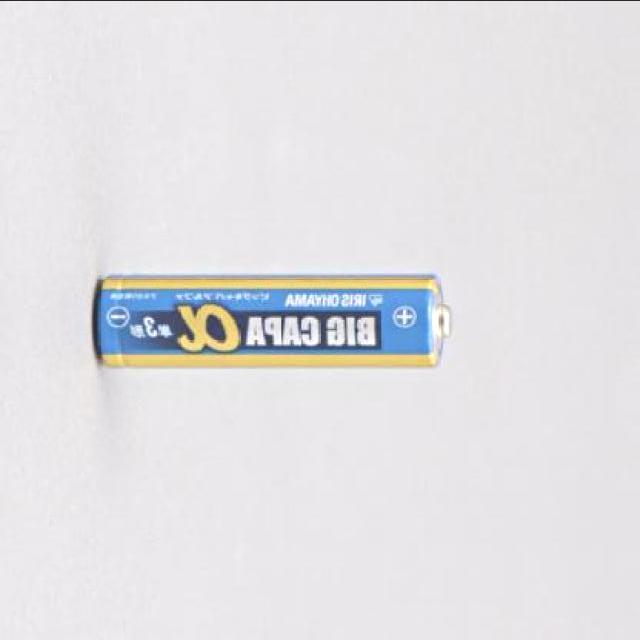AA: (78, 238, 457, 380)
